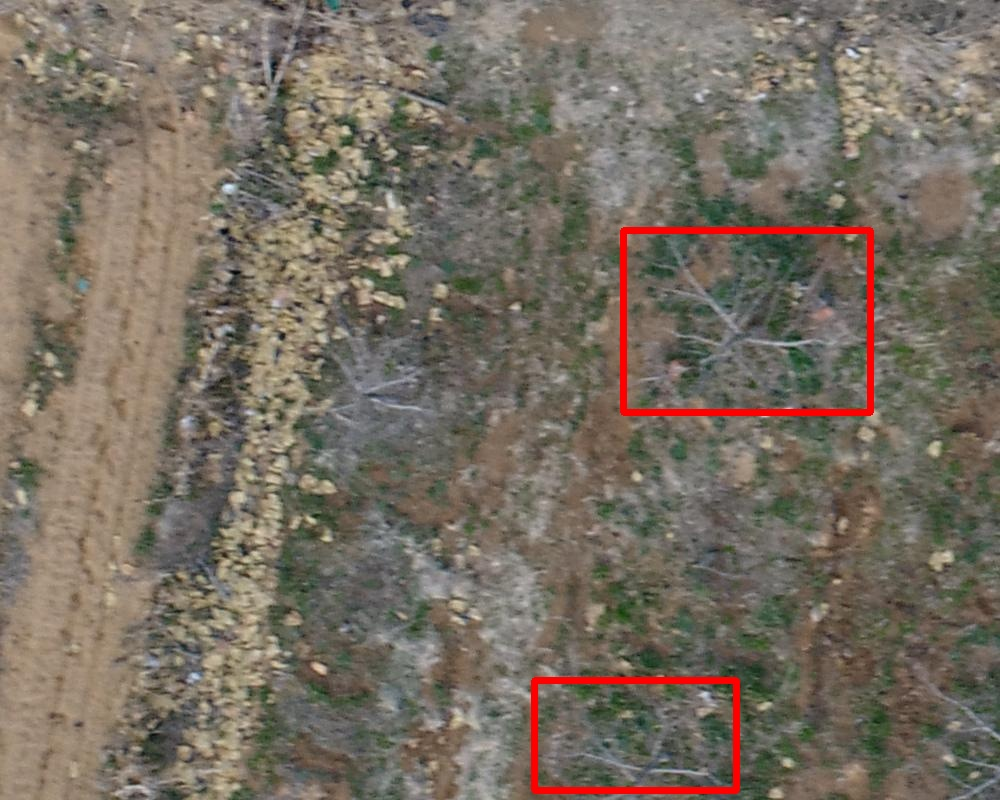apple: (623, 230, 870, 412), (534, 680, 736, 790)
